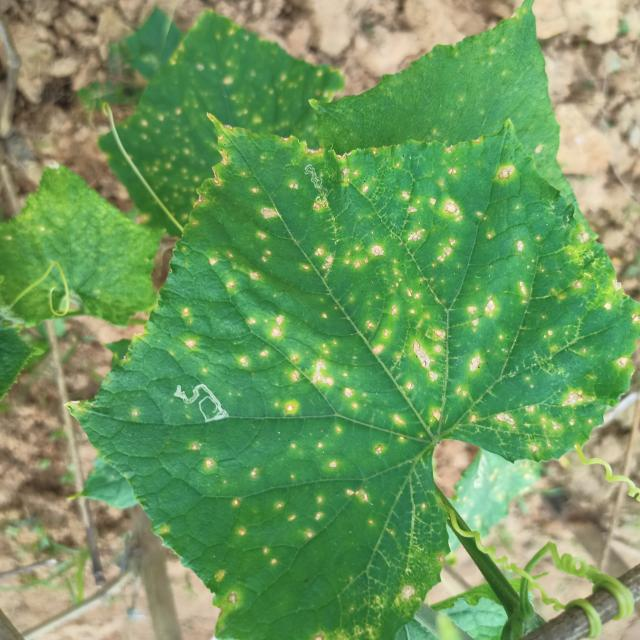disease_cucumber: (163, 131, 588, 605)
